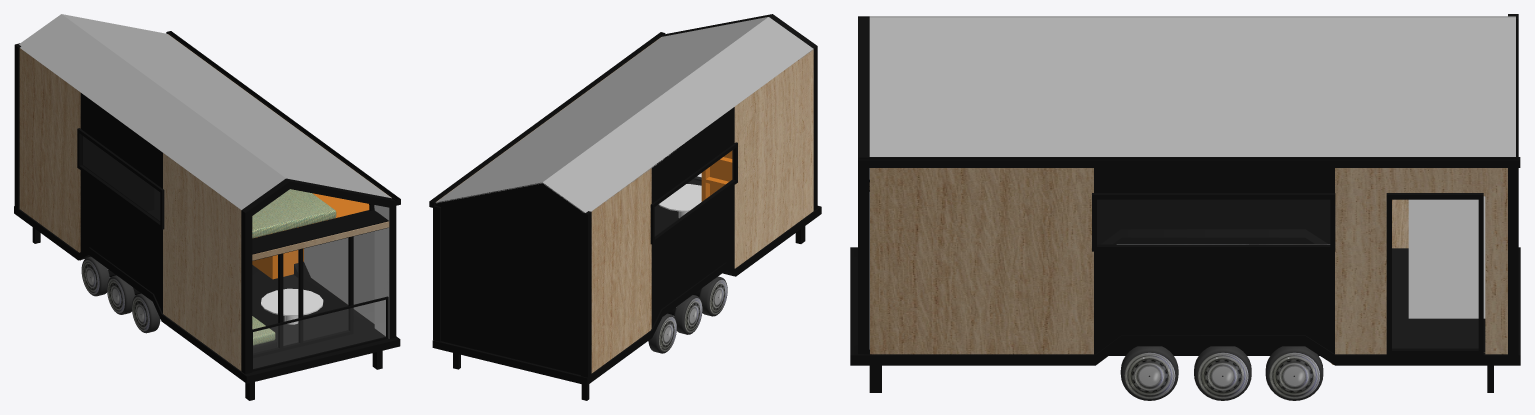
The model's file is tiny_house.glb.
The picture shows the model from 3 angles, left to right: view 1: azimuth 30°, elevation 25°; view 2: azimuth 150°, elevation 25°; view 3: azimuth 270°, elevation 25°; orthographic projection. The views are drawn at different scales.
Parts seen in each view (by area): view 1: Cube_8, toit, Cube_4, face, Cube, Cube_9_2, Cube_10, Cube_2_3, Cube_5, Cylinder_3, Cube_11, Cube_12 (+8 smaller); view 2: Cube_8, toit, Cube_4, Cube_12, Cube_10, Cube_5, Cube_13, Cylinder_2_3, Cylinder_3, Cylinder_1_2, Cylinder_2_2, Cube_16_2; view 3: toit, face, Cube_8, Cube_4, Cube_5, Cube_3_2, Cube_2_2, Cylinder_2_4, Cylinder_3_2, Cylinder_1_3, Cube_13.
Part boxes in pixels (x1,y1,x2,y2): Cube_8: (19, 48, 396, 374); toit: (19, 14, 391, 209); Cube_4: (14, 188, 400, 383); face: (168, 34, 391, 323); Cube: (252, 189, 336, 238); Cube_9_2: (252, 210, 388, 260); Cube_10: (77, 128, 164, 229); Cube_2_3: (278, 236, 353, 351); Cube_5: (166, 31, 400, 205); Cylinder_3: (261, 288, 323, 324); Cube_11: (252, 296, 388, 371); Cube_12: (14, 43, 20, 209); Cube_8: (435, 14, 817, 374); toit: (436, 17, 813, 212); Cube_4: (432, 176, 821, 385); Cube_12: (581, 211, 591, 377); Cube_10: (650, 142, 737, 244); Cube_5: (429, 32, 665, 207); Cube_13: (433, 206, 440, 341); Cylinder_2_3: (674, 295, 702, 334); Cylinder_3: (658, 184, 701, 218); Cylinder_1_2: (699, 276, 727, 316); Cylinder_2_2: (648, 313, 676, 353); Cube_16_2: (701, 150, 732, 201); toit: (869, 16, 1515, 156); face: (870, 168, 1507, 364); Cube_8: (858, 16, 1485, 354); Cube_4: (850, 229, 1520, 365); Cube_5: (858, 157, 1520, 167); Cube_3_2: (1092, 193, 1335, 251); Cube_2_2: (1386, 193, 1483, 355); Cylinder_2_4: (1120, 346, 1178, 400); Cylinder_3_2: (1194, 346, 1251, 400); Cylinder_1_3: (1265, 346, 1323, 400); Cube_13: (1508, 168, 1518, 355).
Bounding box in the file's own units: 2.43 × 3.12 × 6.17.
13 materials, 6 textured.
